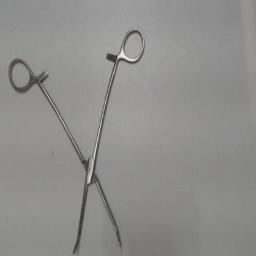Lahey Forceps: (0, 24, 150, 256)
